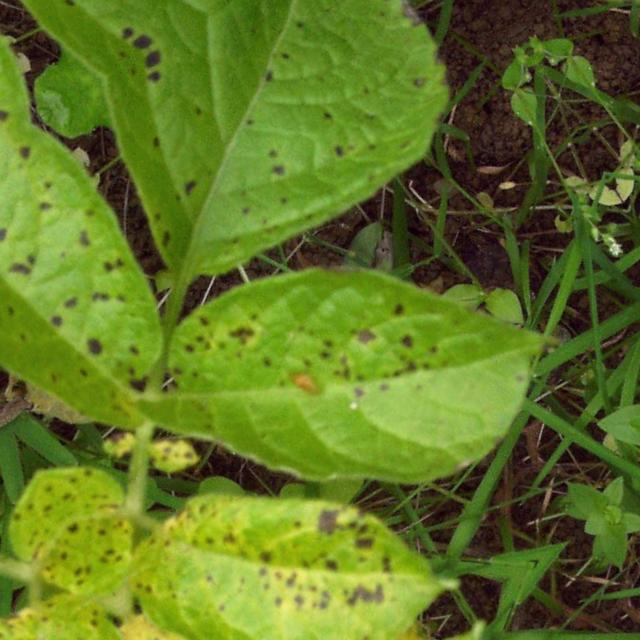Tomato Septoria leaf spot: (97, 169, 596, 627), (91, 396, 469, 640), (0, 106, 215, 471), (0, 328, 230, 611), (219, 603, 416, 640)
